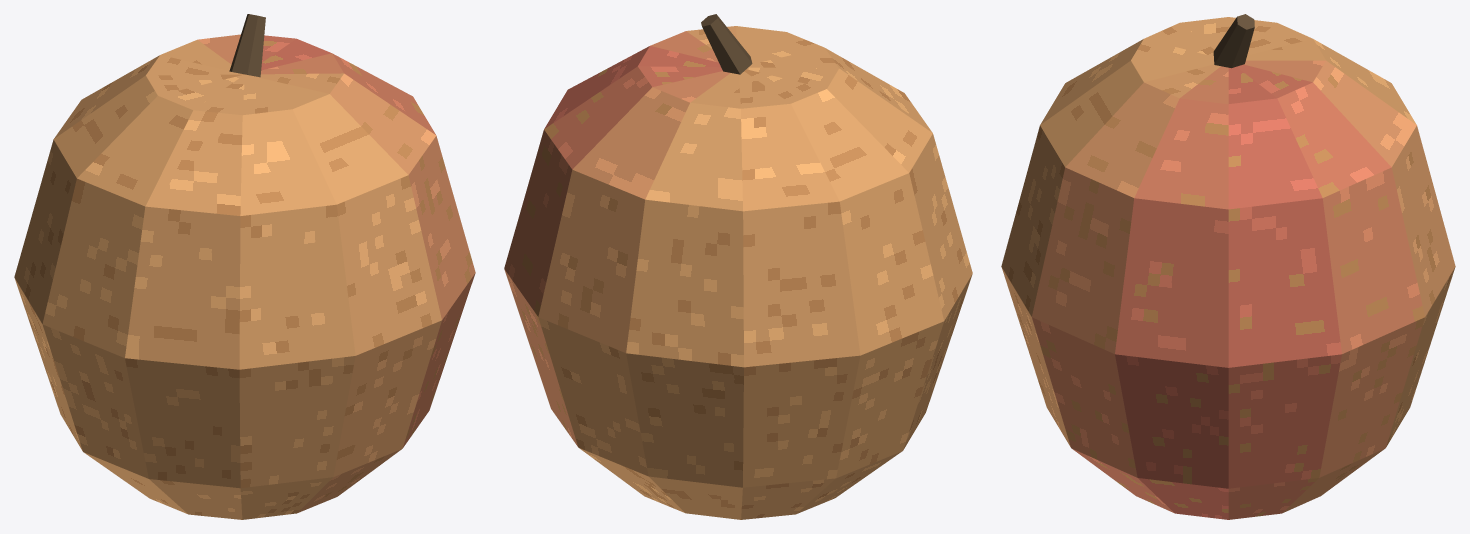
File: peach.glb
3 renders of one model, left to right at view 1: azimuth 30°, elevation 25°; view 2: azimuth 150°, elevation 25°; view 3: azimuth 270°, elevation 25°, orthographic. The views are drawn at different scales.
Visible parts, largest first — view 1: block_peach, block_woody stem; view 2: block_peach, block_woody stem; view 3: block_peach, block_woody stem.
Boxes of the visible parts, box(x1,y1,x2,y2) form: block_peach: box(14, 34, 475, 519); block_woody stem: box(229, 14, 265, 77); block_peach: box(504, 26, 972, 519); block_woody stem: box(701, 14, 752, 74); block_peach: box(1001, 17, 1455, 519); block_woody stem: box(1213, 14, 1254, 68).
Bounding box in the file's own units: 0.0958 × 0.1022 × 0.0906.
1 material, 1 textured.
